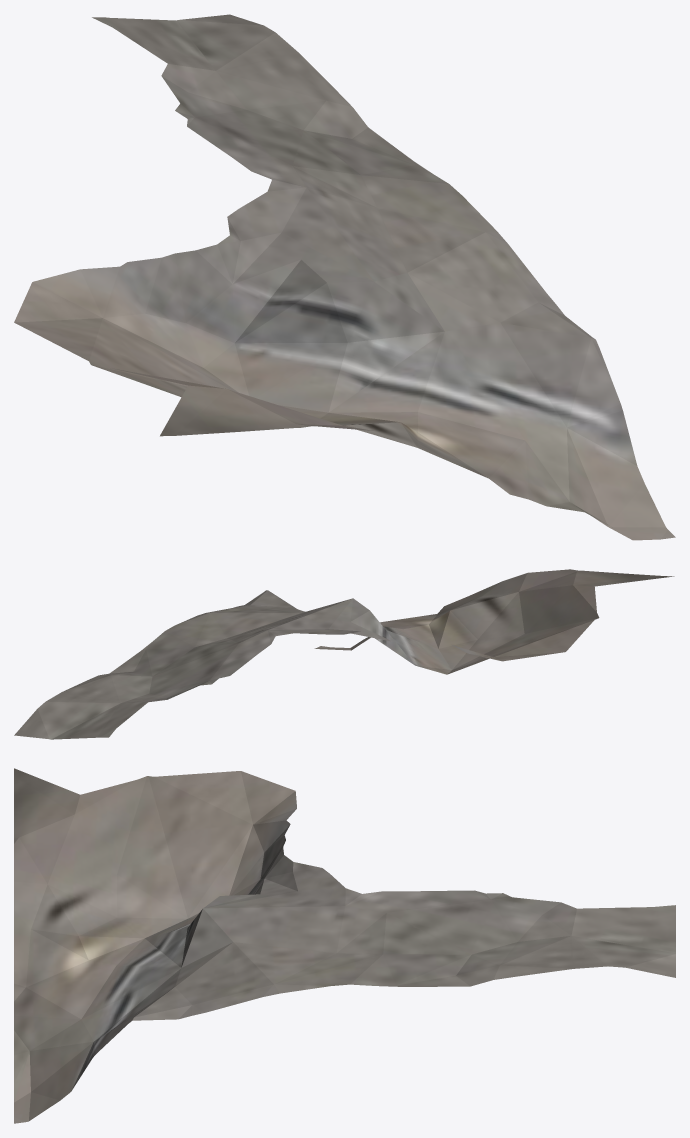
The picture shows the model from 3 angles, top to bottom: view 1: azimuth 30°, elevation 25°; view 2: azimuth 150°, elevation 25°; view 3: azimuth 270°, elevation 25°; orthographic projection. The views are drawn at different scales.
Bounding box in the file's own units: 1.12 × 0.4706 × 1.67.
Materials: 1 (1 with a texture image).
